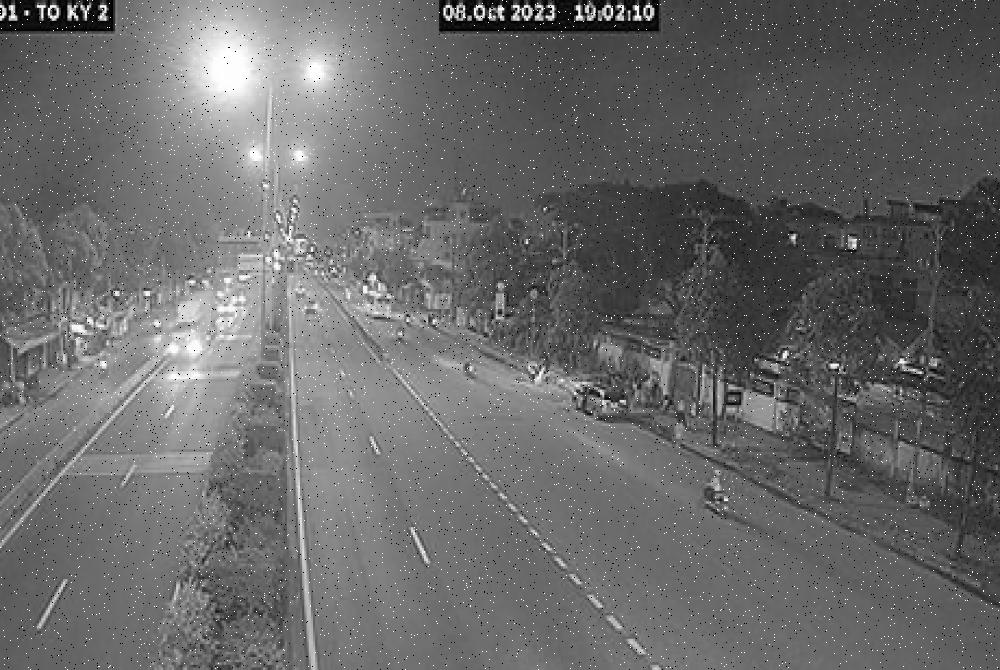car: (562, 364, 639, 438)
